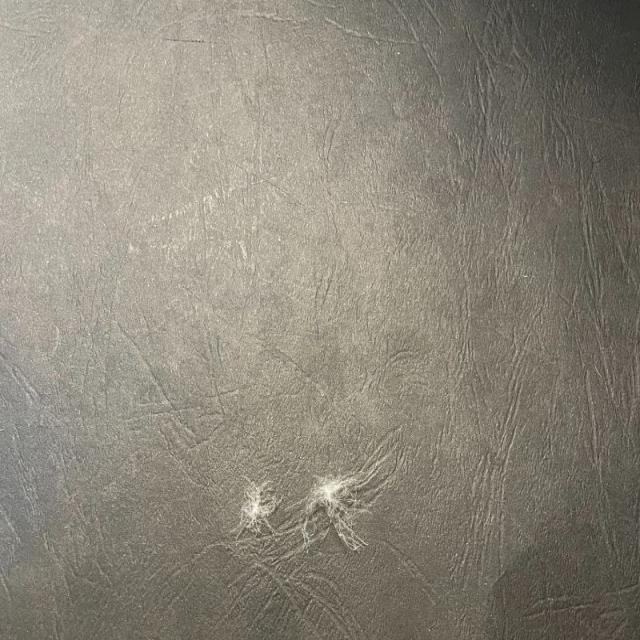feather: (298, 469, 362, 550), (234, 476, 288, 538)
